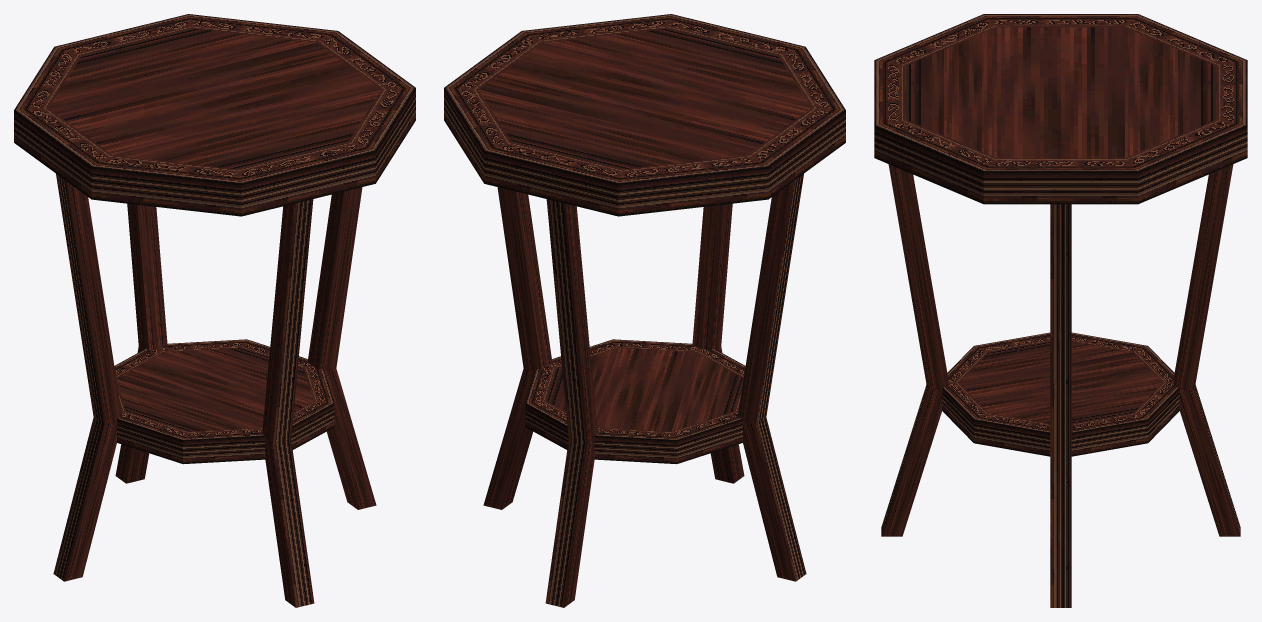
The model's file is octagon.fbx.
The picture shows the model from 3 angles, left to right: view 1: azimuth 30°, elevation 25°; view 2: azimuth 150°, elevation 25°; view 3: azimuth 270°, elevation 25°; orthographic projection.
Parts seen in each view (by area): view 1: mesh_0; view 2: mesh_0; view 3: mesh_0.
Part boxes in pixels (x1,y1,x2,y2): mesh_0: (14,14,415,607); mesh_0: (444,14,845,607); mesh_0: (874,14,1247,607).
Size of the model in its own units: 46.19 by 60 by 46.19.
1 material, 1 textured.
